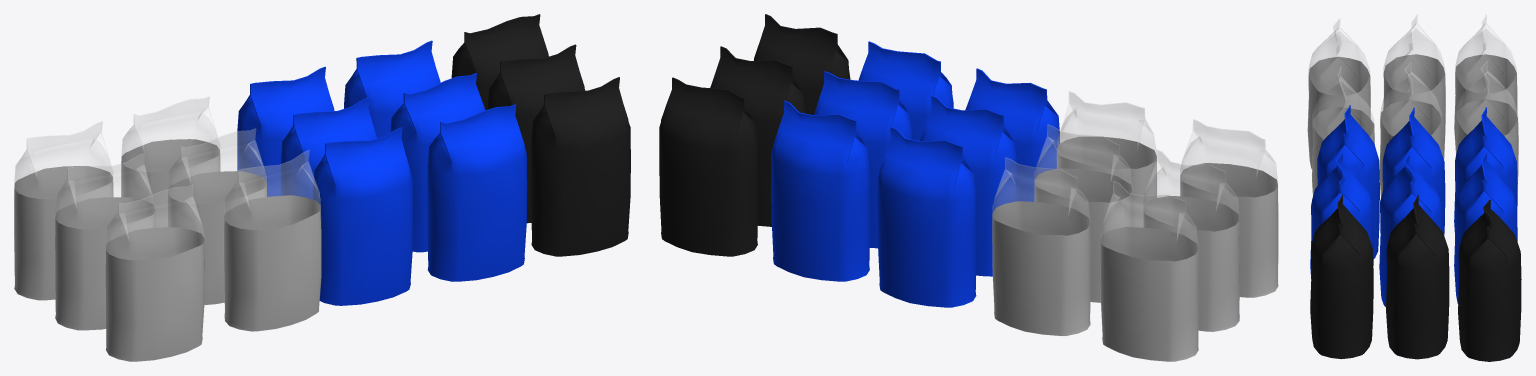
The model's file is Pasta_9duit_Pack02.fbx.
3 renders of one model, left to right at view 1: azimuth 30°, elevation 25°; view 2: azimuth 150°, elevation 25°; view 3: azimuth 270°, elevation 25°, orthographic. The views are drawn at different scales.
Parts seen in each view (by area): view 1: Pasta_9duit_Pack02; view 2: Pasta_9duit_Pack02; view 3: Pasta_9duit_Pack02.
Part boxes in pixels (x1=…): Pasta_9duit_Pack02: x1=14, y1=14, x2=630, y2=361; Pasta_9duit_Pack02: x1=659, y1=14, x2=1278, y2=361; Pasta_9duit_Pack02: x1=1307, y1=14, x2=1521, y2=361.
Size of the model in its own units: 93.49 by 25.85 by 38.04.
